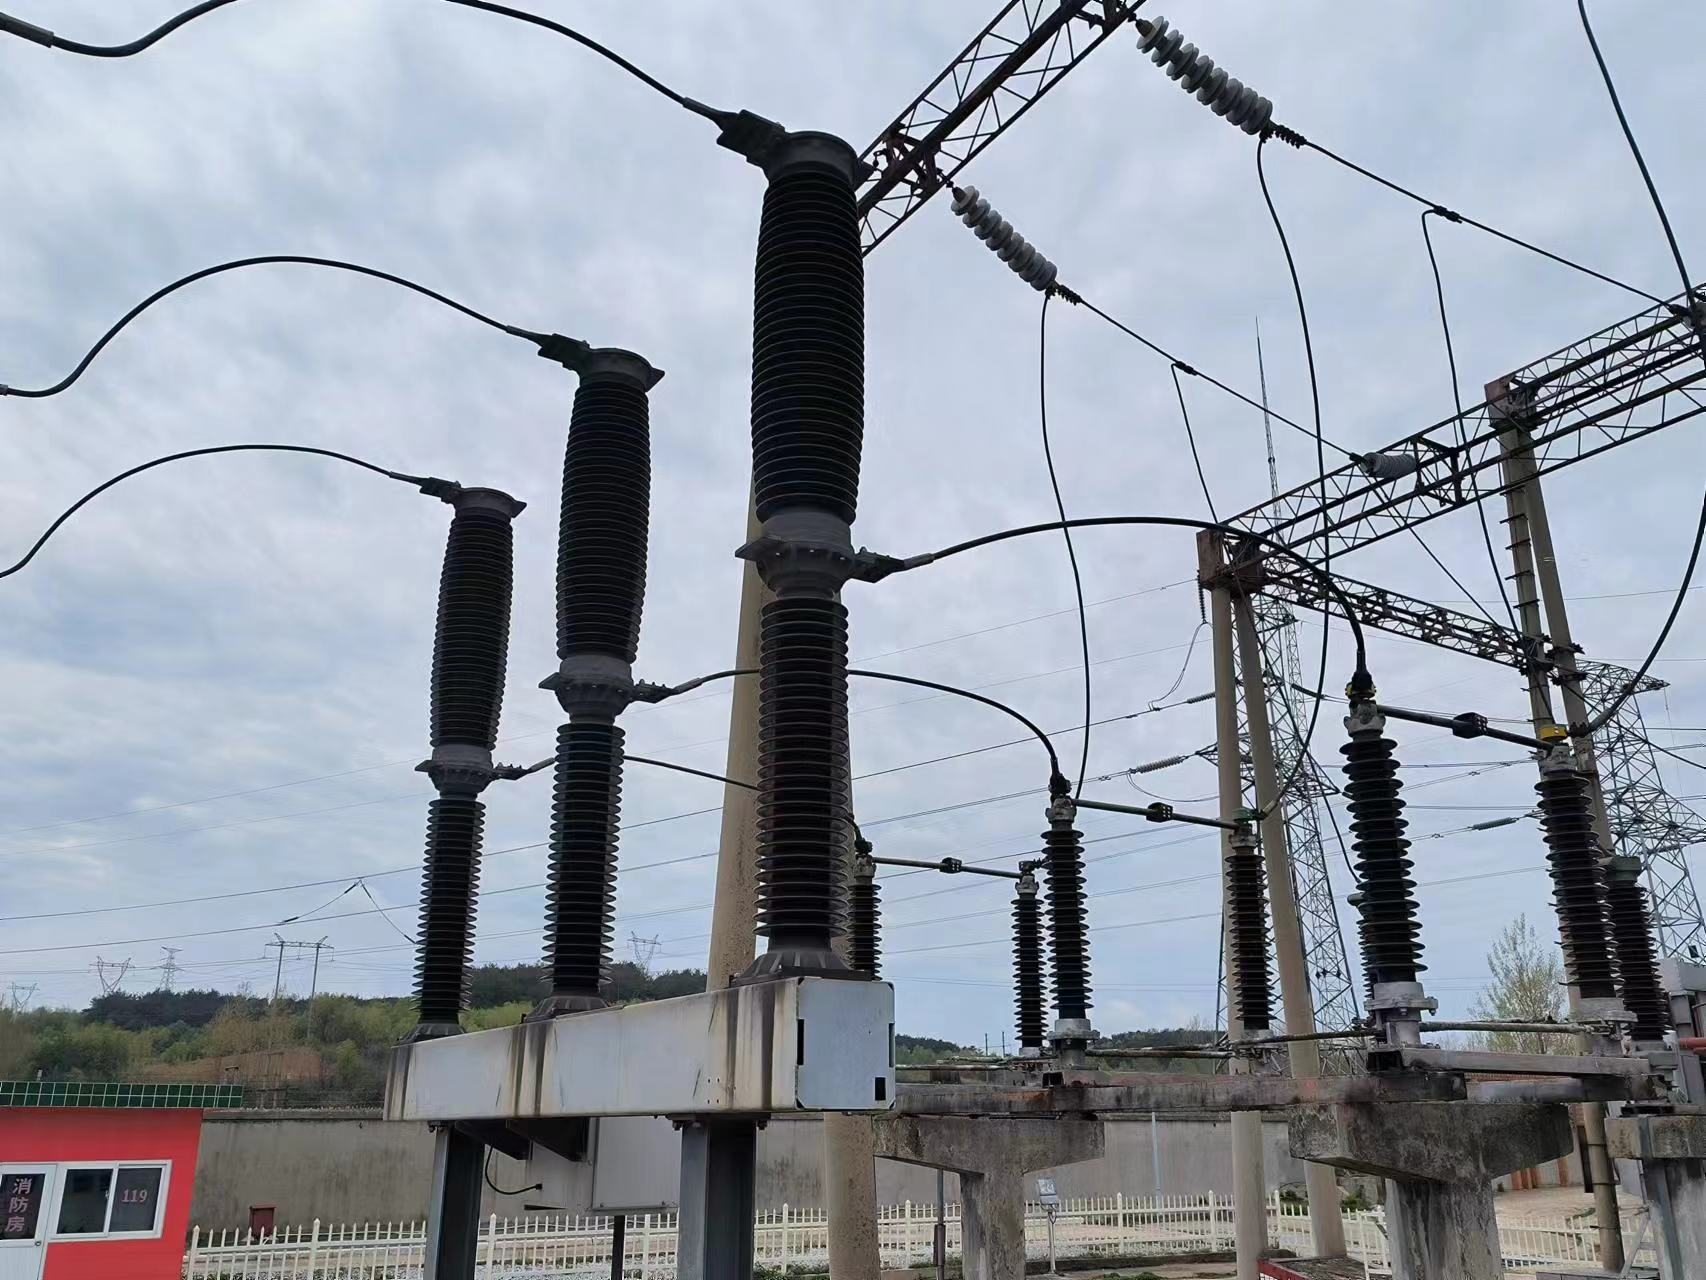Circuit-breaker: (729, 126, 872, 957), (535, 346, 656, 999), (409, 485, 520, 1019)
